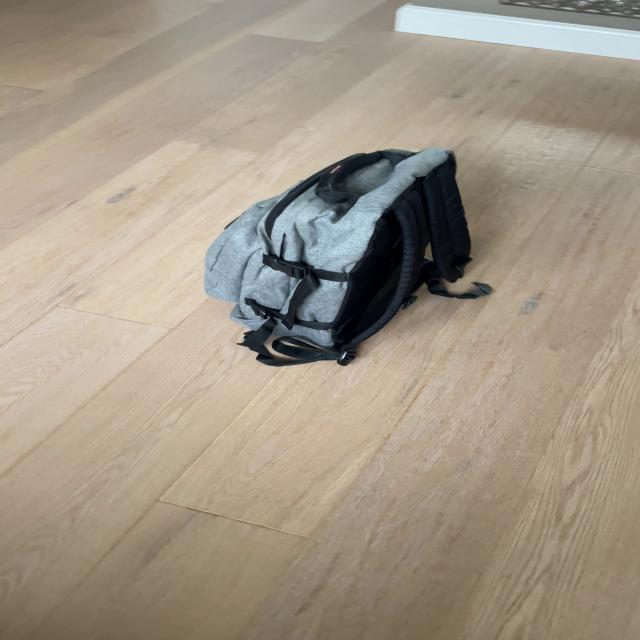backpack: (190, 136, 482, 372)
